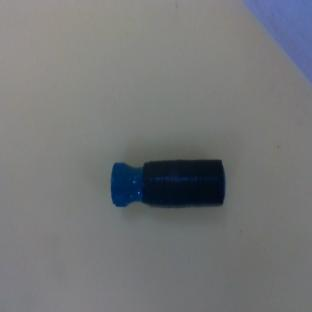part_2_bad: (110, 160, 225, 208)
